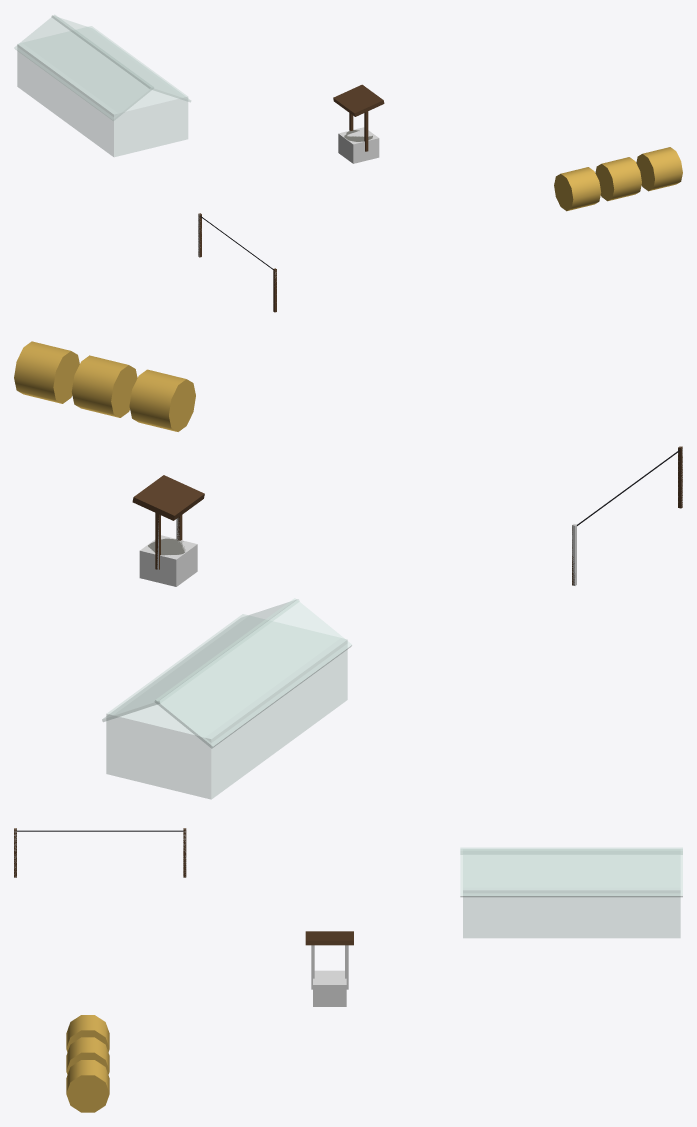
Rendered from theme-village-1.glb.
3 views of the same model, one above another, from view 1: azimuth 30°, elevation 25°; view 2: azimuth 150°, elevation 25°; view 3: azimuth 270°, elevation 25° (orthographic). The views are drawn at different scales.
Visible parts, largest first — view 1: 01_#c8e0d8_noshadow, 02_#c8e0d8_noshadow, 00_#d8b050_r320, 04_#5a3e26_r320, solid; view 2: 01_#c8e0d8_noshadow, 02_#c8e0d8_noshadow, 00_#d8b050_r320, 04_#5a3e26_r320, solid; view 3: 01_#c8e0d8_noshadow, 02_#c8e0d8_noshadow, 00_#d8b050_r320, solid, 04_#5a3e26_r320.
Part boxes in pixels (x1,y1,x2,y2): 01_#c8e0d8_noshadow: (17, 26, 187, 156); 02_#c8e0d8_noshadow: (14, 15, 190, 120); 00_#d8b050_r320: (554, 147, 682, 211); 04_#5a3e26_r320: (198, 84, 384, 312); solid: (338, 127, 379, 163); 01_#c8e0d8_noshadow: (106, 614, 347, 799); 02_#c8e0d8_noshadow: (102, 598, 351, 748); 00_#d8b050_r320: (14, 341, 195, 431); 04_#5a3e26_r320: (132, 446, 682, 585); solid: (139, 535, 197, 586); 01_#c8e0d8_noshadow: (463, 854, 680, 937); 02_#c8e0d8_noshadow: (460, 847, 682, 896); 00_#d8b050_r320: (66, 1015, 109, 1112); solid: (313, 970, 346, 1006); 04_#5a3e26_r320: (14, 828, 353, 945).
Bounding box in the file's own units: 23.21 × 3.19 × 27.66.
